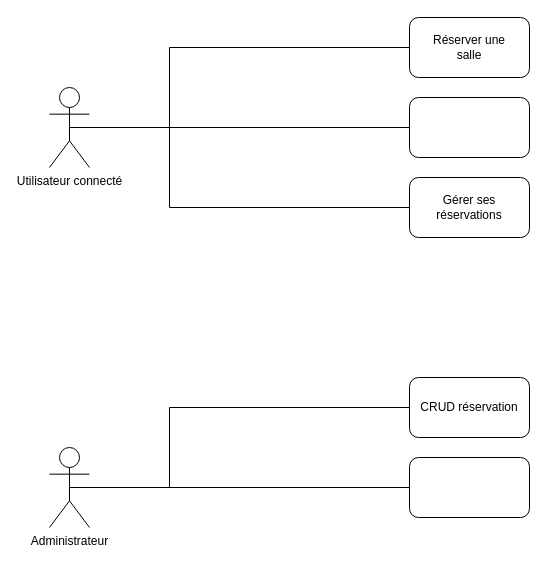
This 547x566 diagram has some shape labels left out. Here are the shapes that lost their labels. From the top down, the centre of each, then its label:
At [469,127]: "Gérer son compte client".
At [469,487]: "CRUD compte client".
